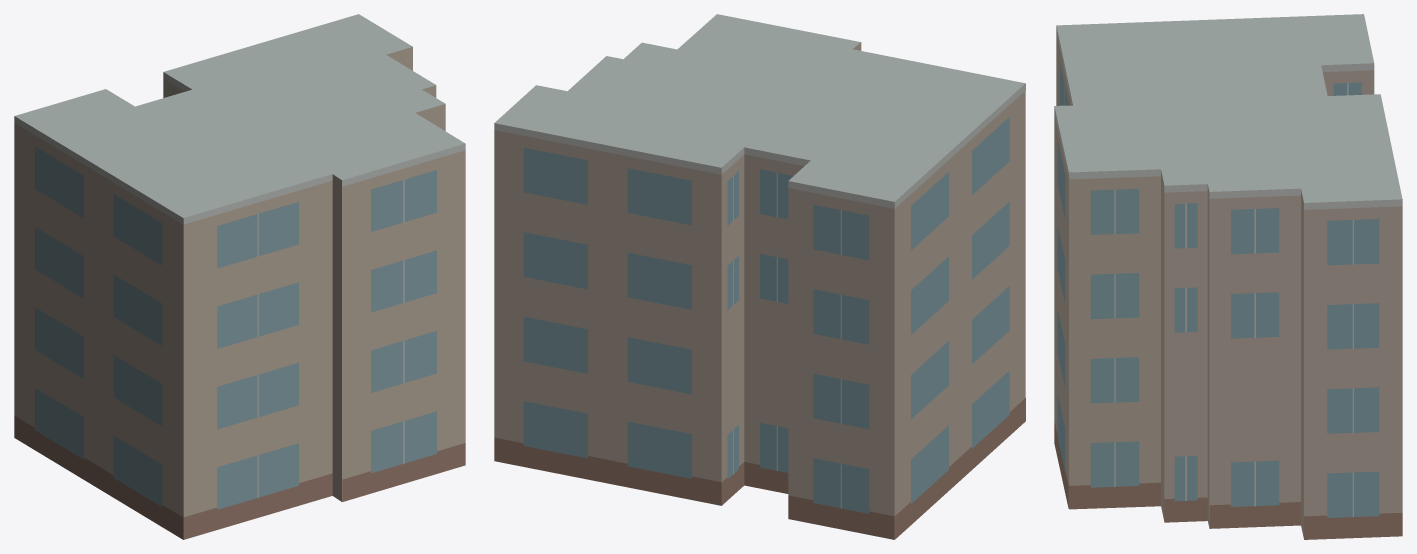
File: survey-upis-32921028.glb
3 renders of one model, left to right at view 1: azimuth 30°, elevation 25°; view 2: azimuth 150°, elevation 25°; view 3: azimuth 270°, elevation 25°, orthographic. The views are drawn at different scales.
Visible parts, largest first — view 1: survey-upis-32921028.tmp; view 2: survey-upis-32921028.tmp; view 3: survey-upis-32921028.tmp.
Part boxes in pixels (<box>): survey-upis-32921028.tmp: <box>14,14,465,539</box>; survey-upis-32921028.tmp: <box>494,14,1025,539</box>; survey-upis-32921028.tmp: <box>1054,14,1402,539</box>.
Bounding box in the file's own units: 14.33 × 11.9 × 11.16.
